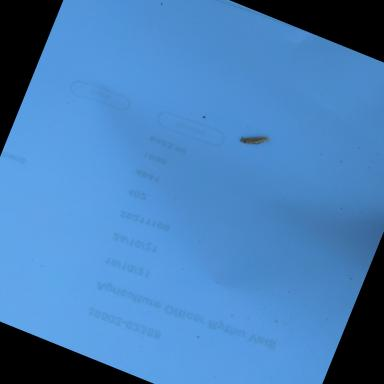pbw: (238, 128, 268, 151)
